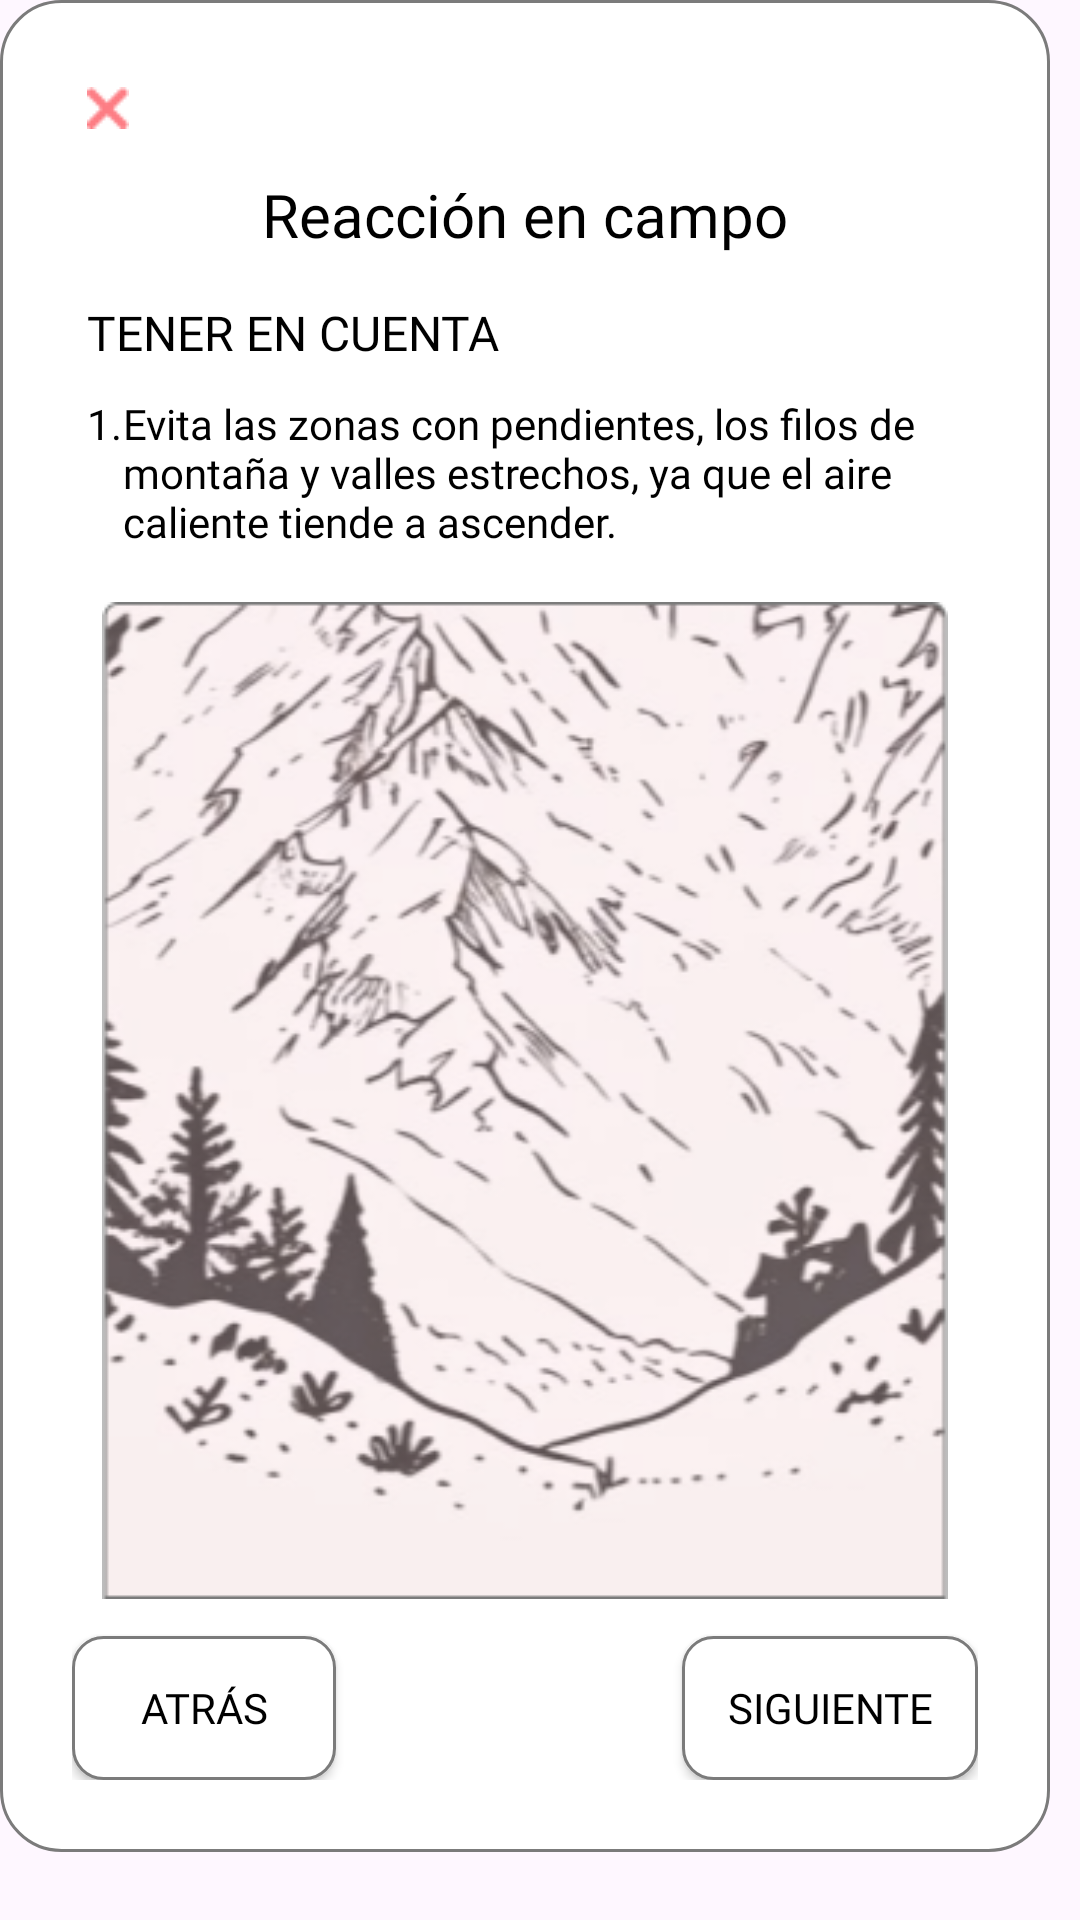

Screen size 1080 × 1920. Icon name, then its center in pixels as [x,y]:
cerrar rojo: [108,108]
